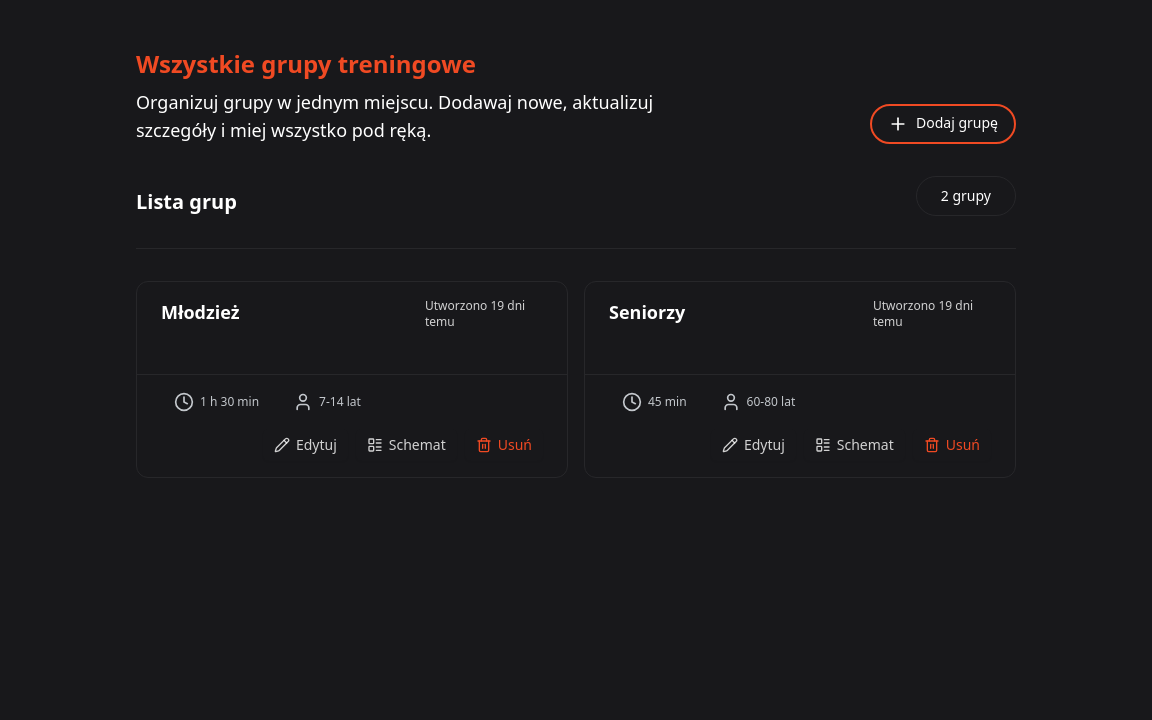
Test: GroupListPage › opens the schema dialog for the clicked group
This screenshot has width=1152, height=720.
Step 1. Click the button "Schemat" below "1 h 30 min" → (406, 445), box [356,429,457,461]
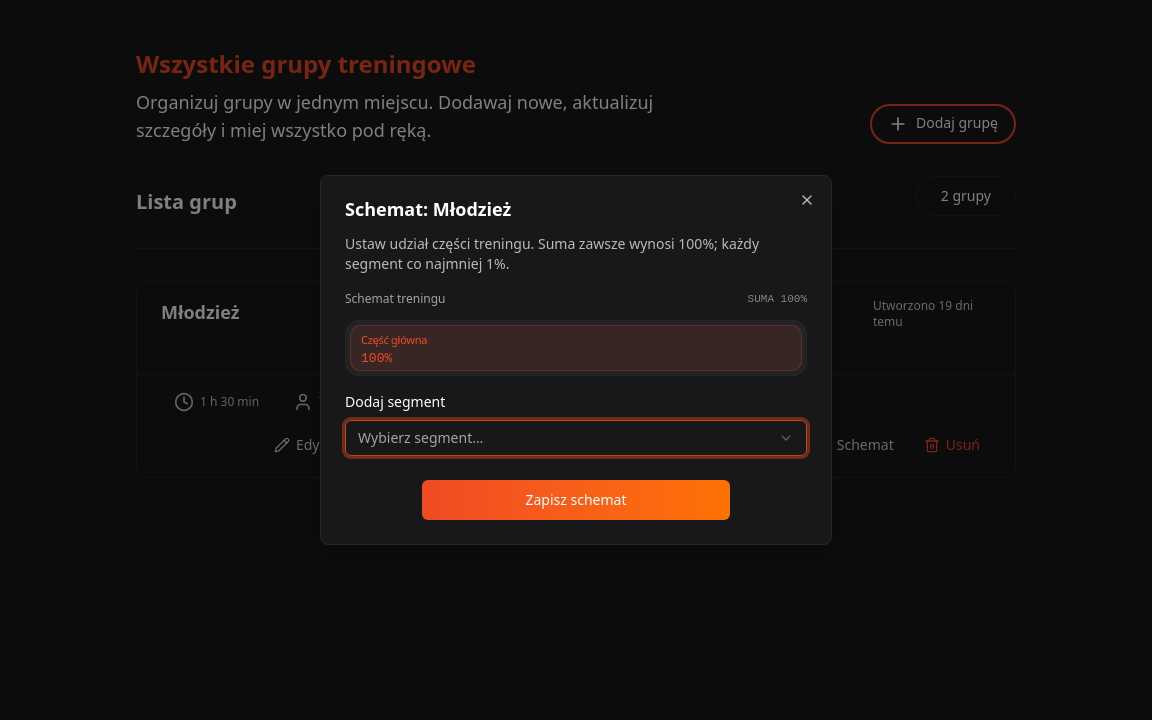
Result: the heading "Schemat: Młodzież" is shown at [345,197,511,221]
Result: the element "Schemat treningu" is shown at [345,290,807,376]
Result: the button "Zapisz schemat" is shown at [422,480,730,520]
